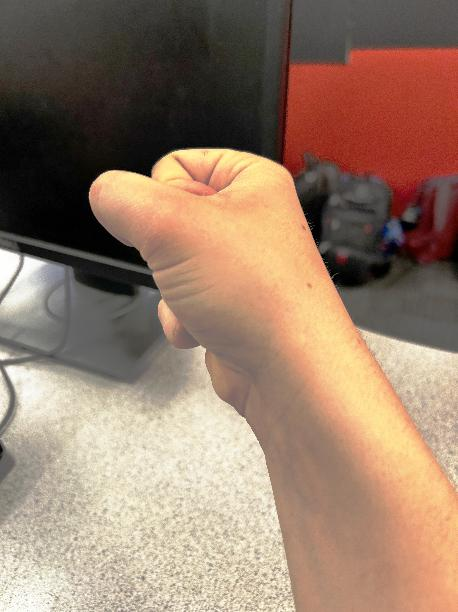Rock: (62, 102, 391, 446)
